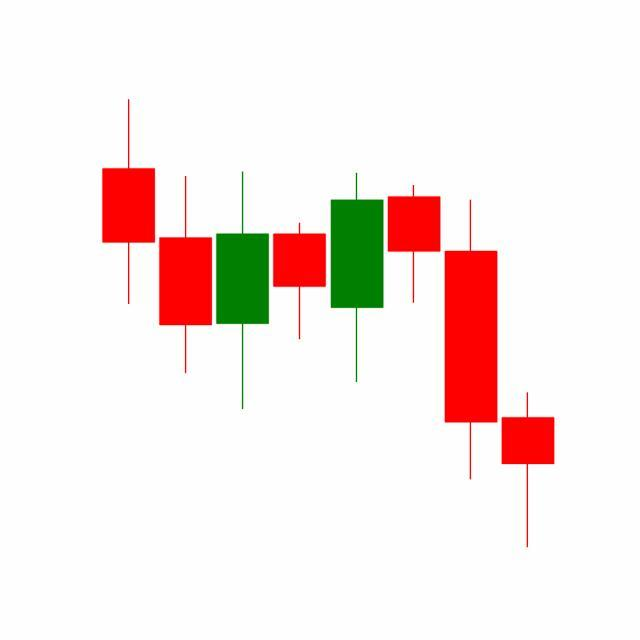Hikkake Pattern: (214, 168, 501, 484)
